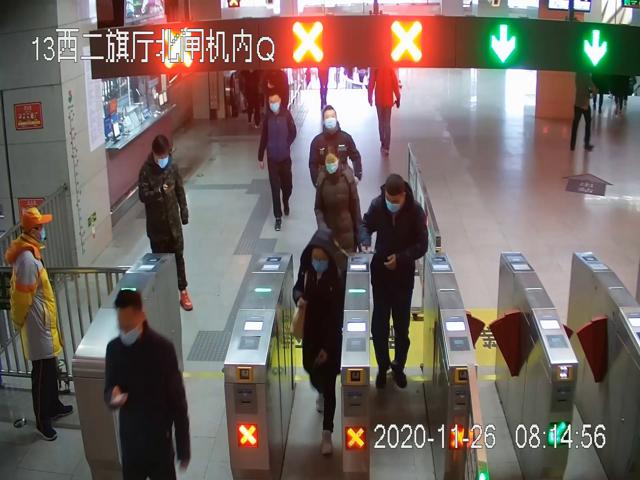person: (6, 205, 74, 442), (361, 173, 428, 392), (290, 232, 343, 456), (134, 135, 196, 313), (253, 90, 297, 232), (315, 146, 360, 259)
